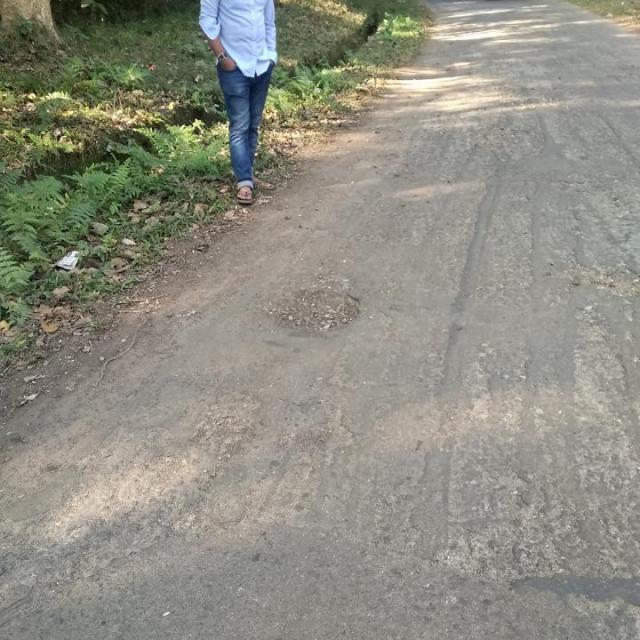pothole: (272, 285, 364, 335)
